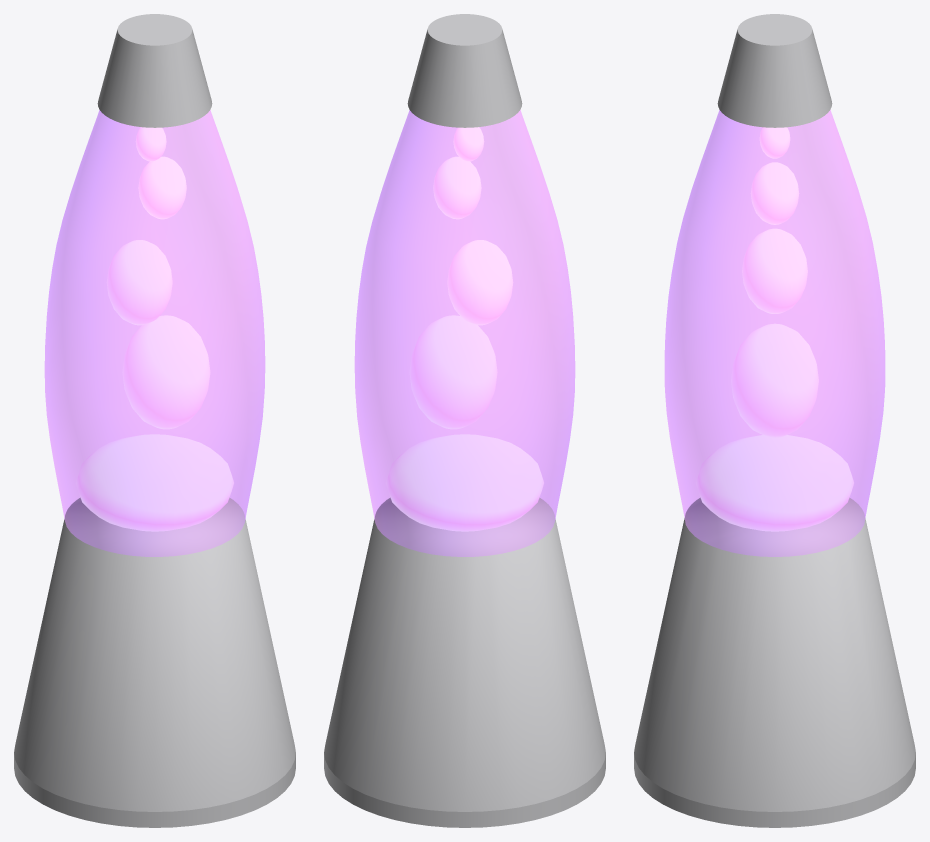
File: obj-lava-lamp-purple.glb
3 renders of one model, left to right at view 1: azimuth 30°, elevation 25°; view 2: azimuth 150°, elevation 25°; view 3: azimuth 270°, elevation 25°, orthographic.
Visible parts, largest first — view 1: obj-lava-lamp-purple; view 2: obj-lava-lamp-purple; view 3: obj-lava-lamp-purple.
Boxes of the visible parts, <box> form: obj-lava-lamp-purple: <box>14,14,295,827</box>; obj-lava-lamp-purple: <box>324,14,605,827</box>; obj-lava-lamp-purple: <box>634,14,915,827</box>.
Size of the model in its own units: 0.128 by 0.37 by 0.128.
